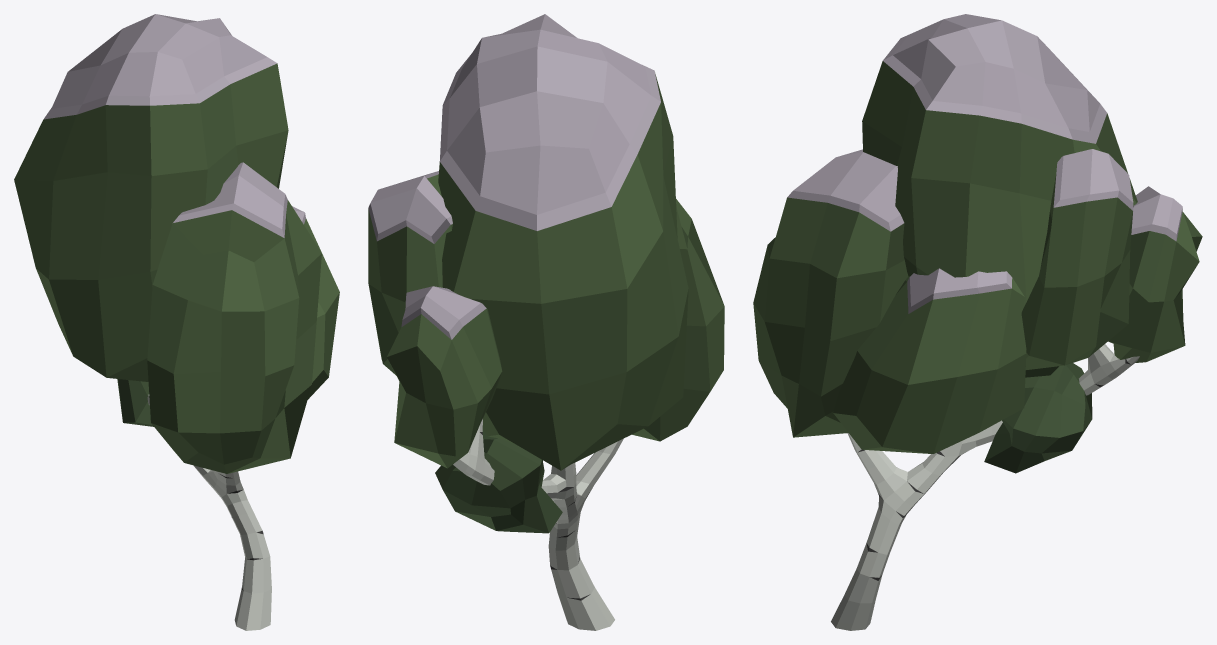
File: BirchTree_Snow_1.glb
3 renders of one model, left to right at view 1: azimuth 30°, elevation 25°; view 2: azimuth 150°, elevation 25°; view 3: azimuth 270°, elevation 25°, orthographic. The views are drawn at different scales.
Parts seen in each view (by area): view 1: Green, Snow, White, DarkGreen; view 2: Green, Snow, White, DarkGreen; view 3: Green, Snow, White, DarkGreen.
Part boxes in pixels (bbox=[...]): Green: bbox=[14, 63, 339, 473]; Snow: bbox=[43, 14, 305, 237]; White: bbox=[147, 394, 271, 630]; DarkGreen: bbox=[117, 379, 153, 426]; Green: bbox=[368, 74, 724, 470]; Snow: bbox=[368, 14, 660, 339]; White: bbox=[453, 419, 623, 630]; DarkGreen: bbox=[435, 430, 562, 533]; Green: bbox=[753, 61, 1202, 453]; Snow: bbox=[787, 14, 1182, 313]; White: bbox=[831, 344, 1139, 630]; DarkGreen: bbox=[984, 363, 1092, 473].
Size of the model in its own units: 1.7 by 3.59 by 2.48.
